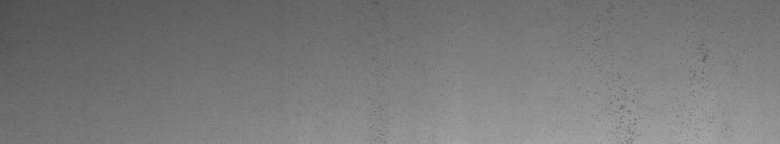ib: (611, 55, 716, 128)
